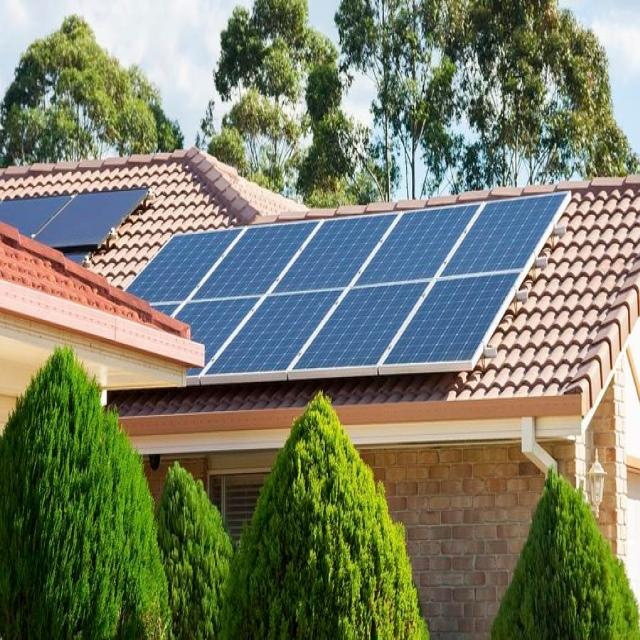clean-solar-panel: (130, 191, 570, 385)
